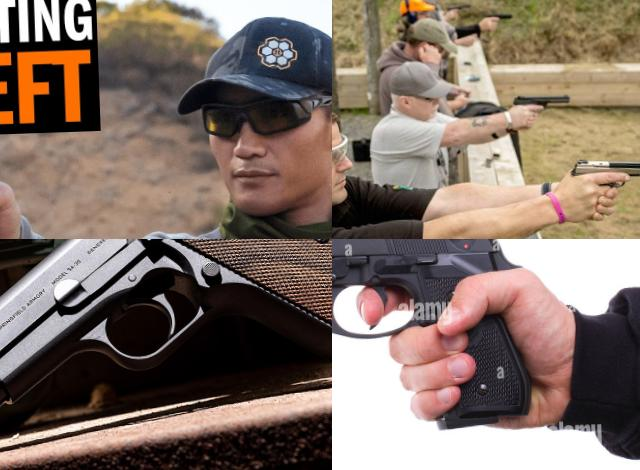handgun: (0, 239, 332, 470), (332, 239, 538, 447), (0, 140, 95, 239), (569, 154, 640, 202), (512, 92, 573, 120)
